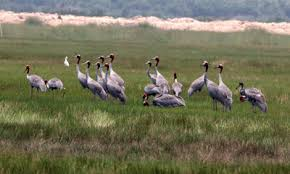seu_dau_do: (200, 59, 227, 110), (81, 61, 106, 102), (82, 59, 105, 98), (23, 64, 45, 94), (151, 55, 170, 89), (72, 54, 87, 88), (171, 70, 184, 96)
